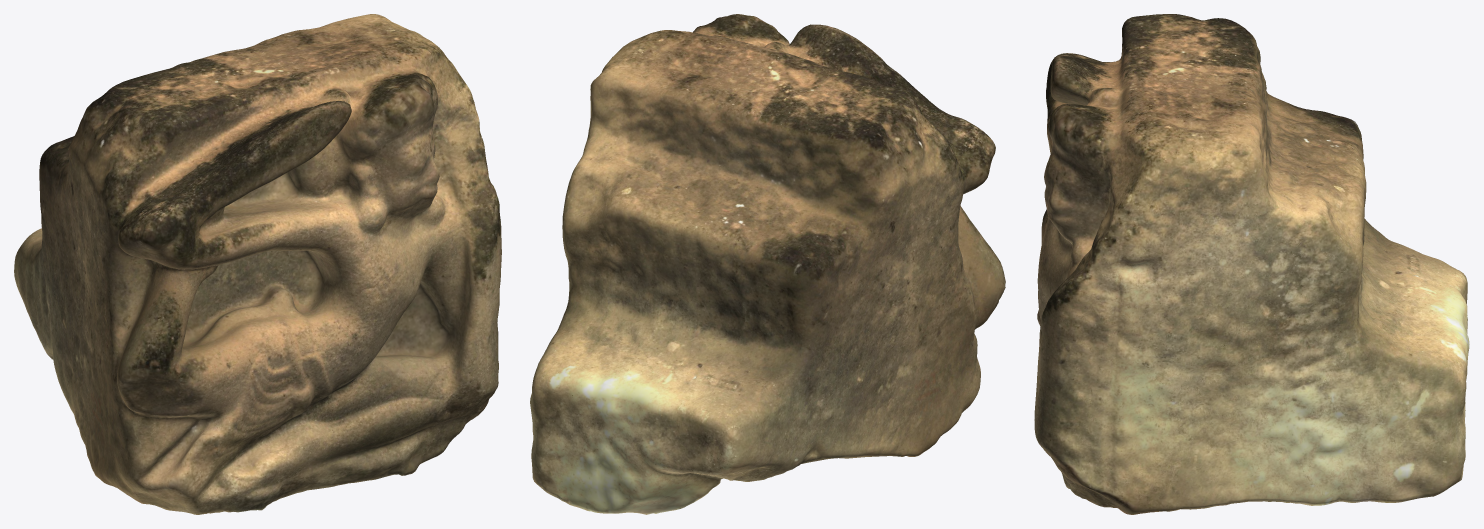
The model's file is 25_MysonSanctuaryD2_chiensibay_final.glb.
3 renders of one model, left to right at view 1: azimuth 30°, elevation 25°; view 2: azimuth 150°, elevation 25°; view 3: azimuth 270°, elevation 25°, orthographic. The views are drawn at different scales.
Size of the model in its own units: 0.4223 by 0.4177 by 0.4298.
1 material, 1 textured.
